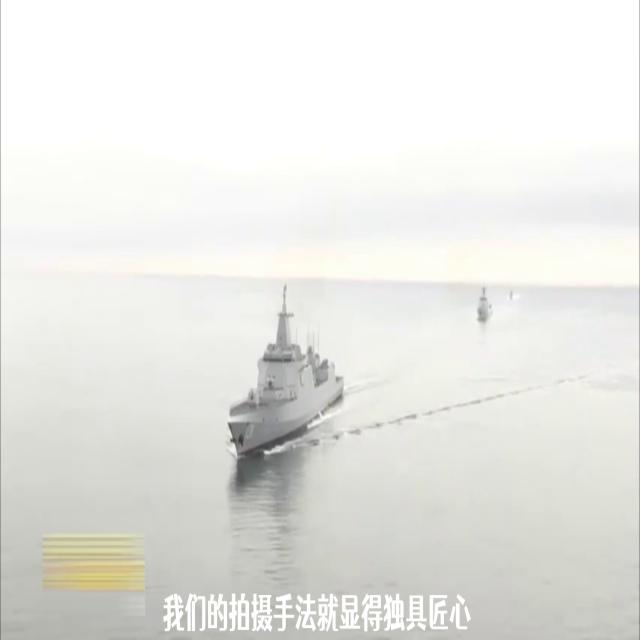navalvessels: (223, 282, 344, 452), (476, 282, 493, 322)
